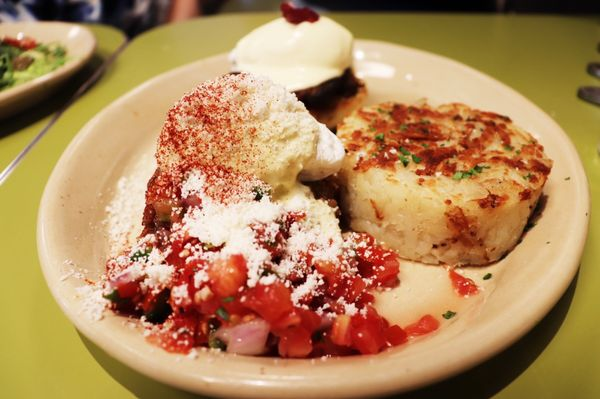sushi: (0, 22, 97, 129)
